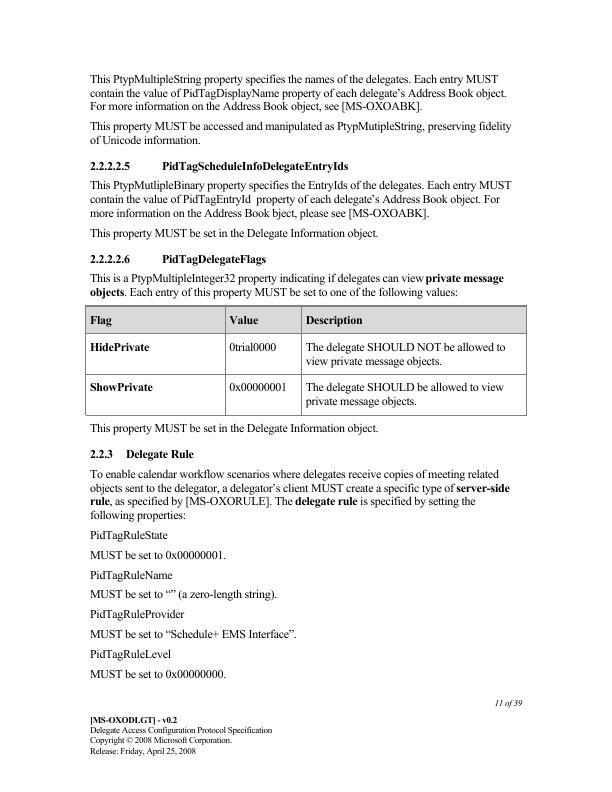table: (83, 303, 527, 418)
text: (87, 468, 514, 521), (87, 178, 513, 221), (88, 72, 507, 112), (88, 271, 507, 300), (88, 120, 513, 147), (83, 711, 274, 757), (87, 421, 381, 436), (88, 226, 379, 241), (88, 159, 355, 173), (85, 627, 301, 644), (86, 586, 278, 604), (86, 250, 271, 266), (86, 548, 230, 563), (86, 666, 229, 681), (87, 607, 188, 622), (87, 448, 194, 460), (86, 528, 171, 543), (88, 647, 173, 661), (86, 569, 176, 582), (492, 696, 524, 709)
